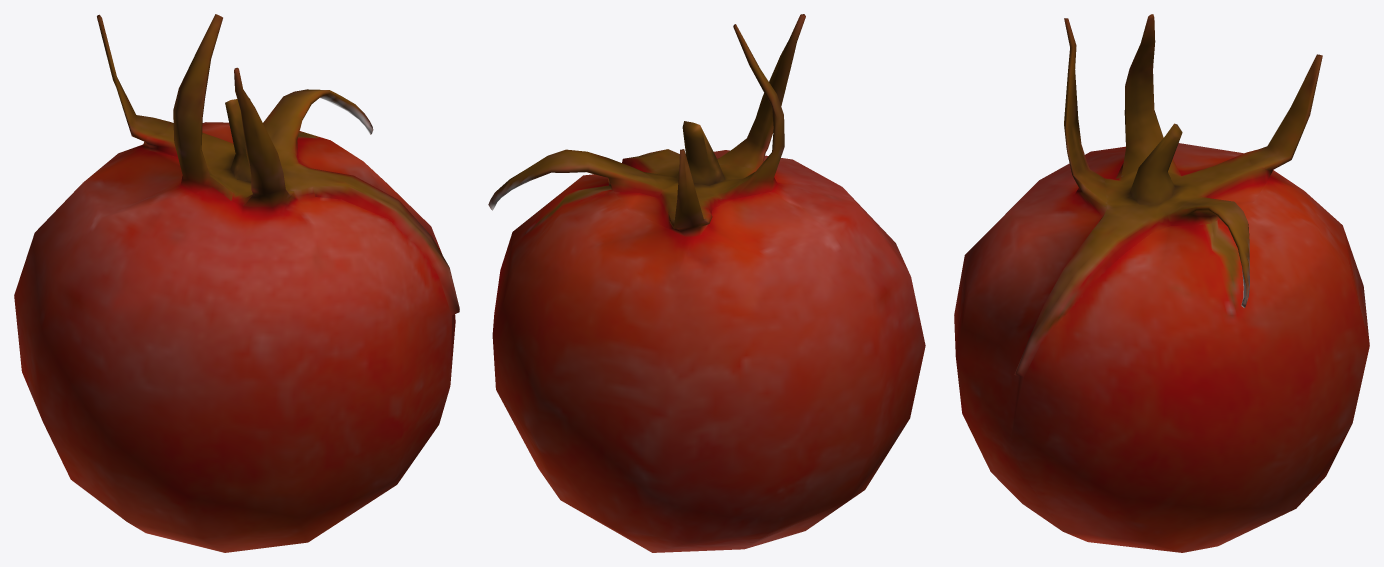
Rendered from Prop_Vegetables_Tomatoes_x1.fbx.
The picture shows the model from 3 angles, left to right: view 1: azimuth 30°, elevation 25°; view 2: azimuth 150°, elevation 25°; view 3: azimuth 270°, elevation 25°; orthographic projection. The views are drawn at different scales.
Visible parts, largest first — view 1: Prop_Vegetables_Tomatoes_x1; view 2: Prop_Vegetables_Tomatoes_x1; view 3: Prop_Vegetables_Tomatoes_x1.
Part boxes in pixels (left/top/right/bottom): Prop_Vegetables_Tomatoes_x1: left=14, top=14, right=459, bottom=552; Prop_Vegetables_Tomatoes_x1: left=488, top=14, right=925, bottom=552; Prop_Vegetables_Tomatoes_x1: left=954, top=14, right=1369, bottom=552.
Bounding box in the file's own units: 4.54 × 5.96 × 4.44.
